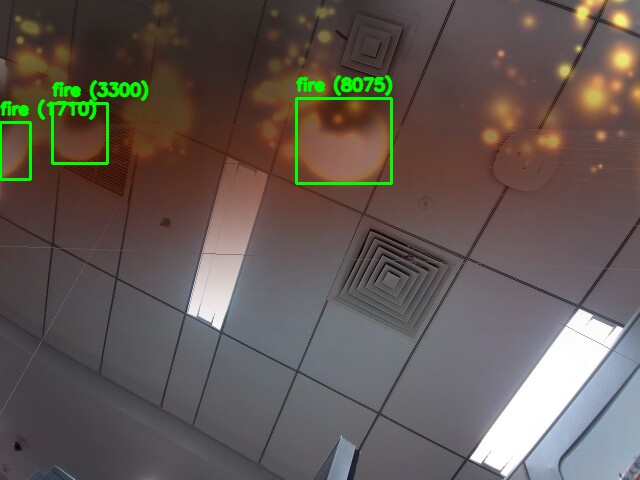fire: (296, 98, 391, 183), (52, 103, 107, 163), (0, 122, 30, 179)
